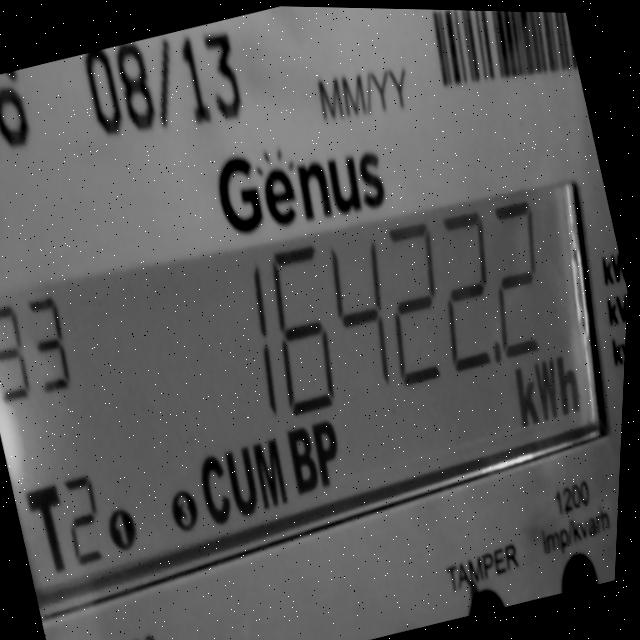.: (487, 330, 513, 368)
1: (216, 252, 302, 420)
2: (368, 213, 473, 401), (416, 194, 518, 379), (468, 189, 574, 360)
3: (19, 285, 87, 401), (0, 298, 48, 418)
4: (311, 232, 418, 413)
6: (251, 229, 361, 422)
